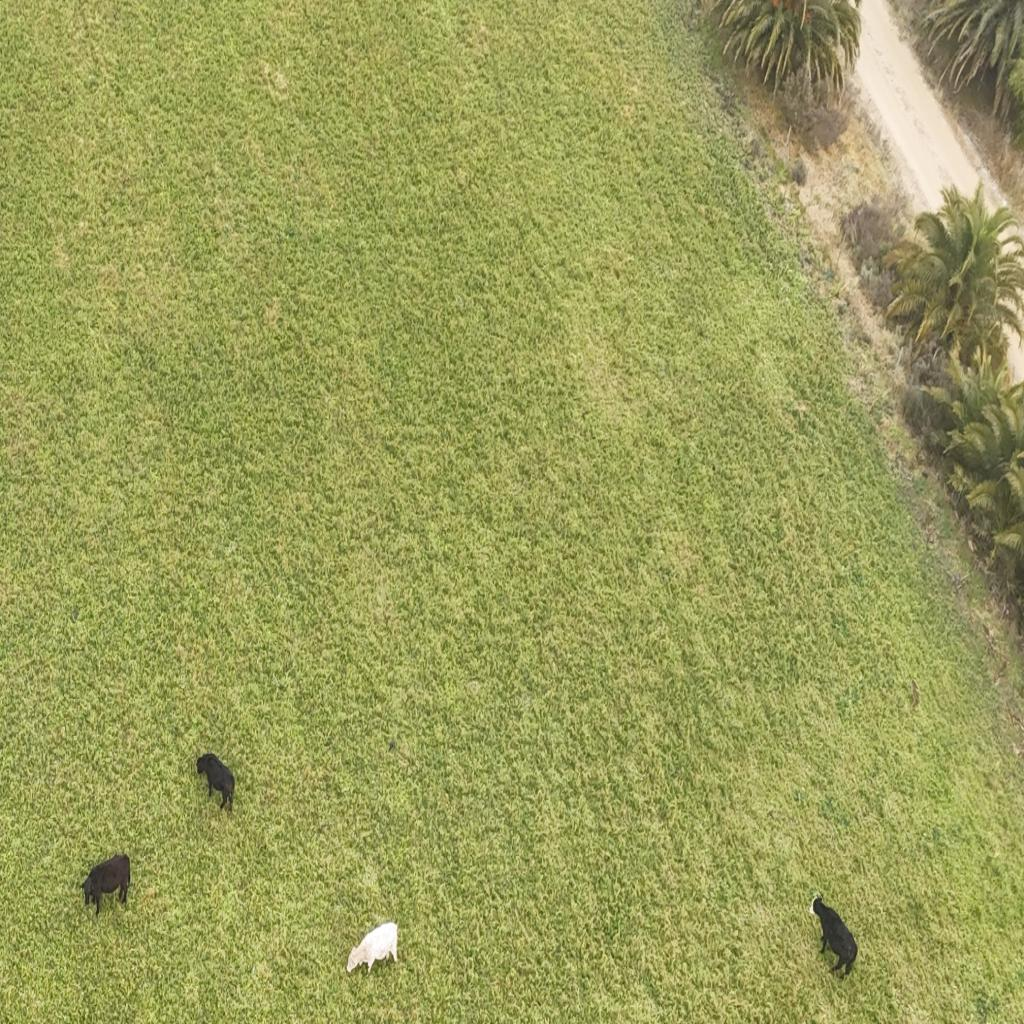cow: (78, 844, 137, 922), (808, 890, 859, 979), (345, 918, 403, 979), (194, 749, 236, 813)
